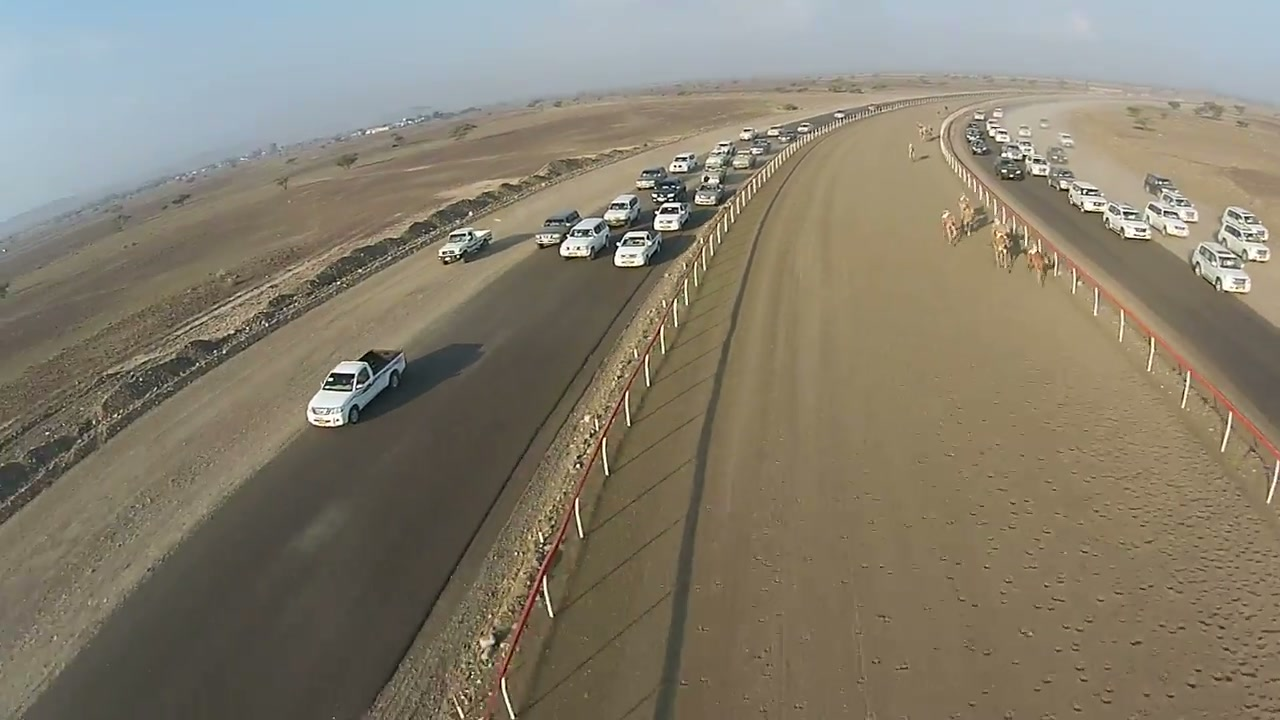animal_footprint: (995, 295, 1279, 715)
